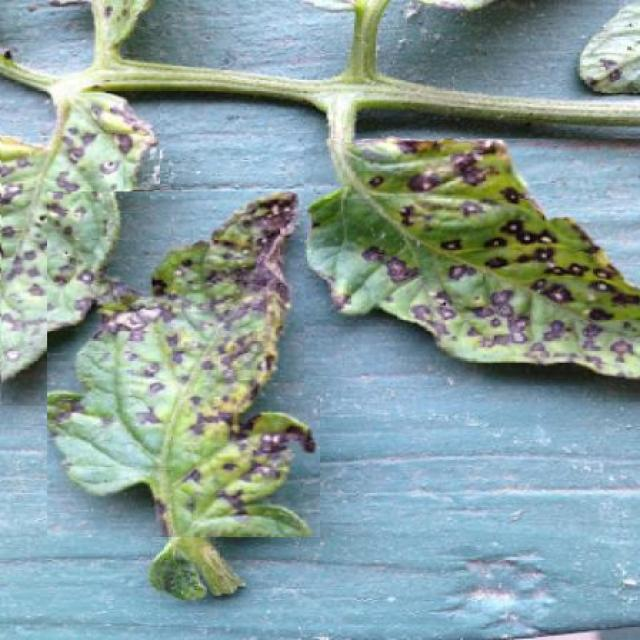Septoria: (47, 191, 320, 538), (304, 138, 640, 386), (1, 75, 160, 405)
